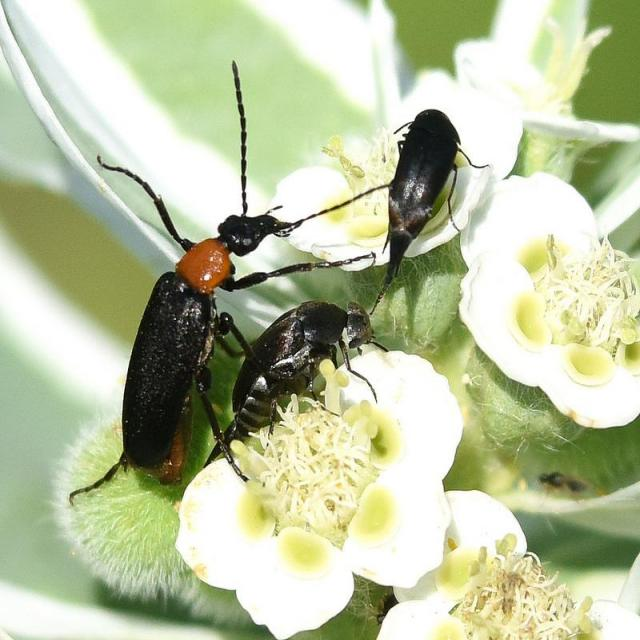BlisterBeetle-Adult-: (93, 118, 316, 497)
